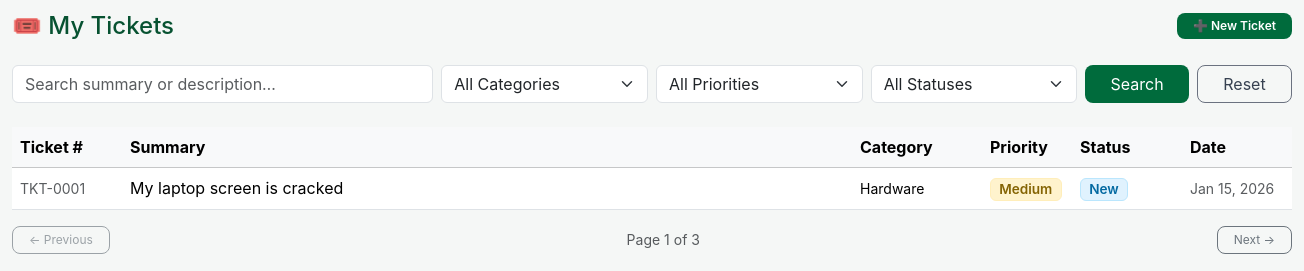
Test case: Pagination controls — visibility rules › disables Previous on the first page and Next on the last page
This screenshot has width=1304, height=271.
Expected: the button "← Previous" is disabled, x1=12 y1=226 x2=110 y2=254
Click the button "Next →": (1254, 240) x1=1217 y1=226 x2=1292 y2=254
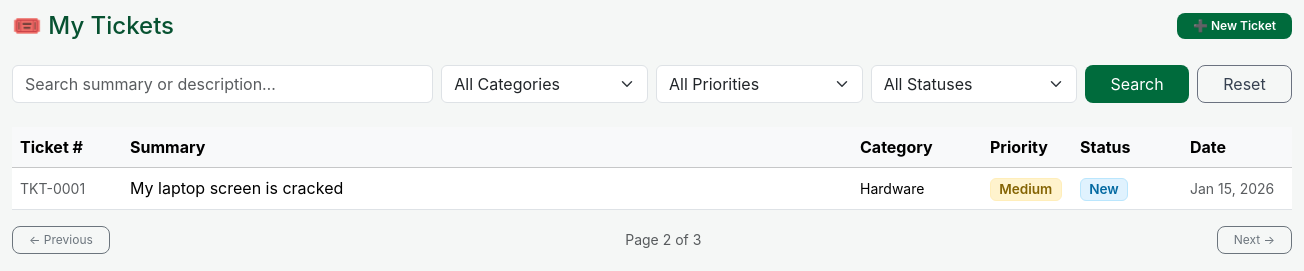
Now the text "Page 2 of 3" is shown, box x1=625 y1=229 x2=701 y2=250
Click the button "Next →": (1254, 240) x1=1217 y1=226 x2=1292 y2=254
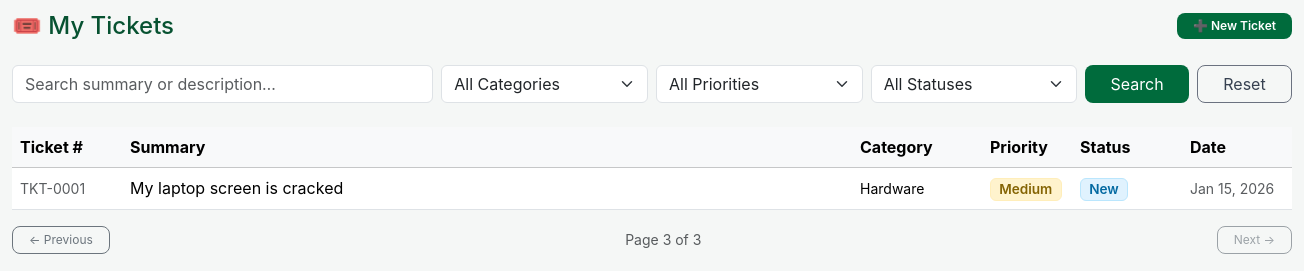
Now the button "← Previous" is enabled, box x1=12 y1=226 x2=110 y2=254
Now the text "Page 3 of 3" is shown, box x1=625 y1=229 x2=701 y2=250
Now the button "Next →" is disabled, box x1=1217 y1=226 x2=1292 y2=254
